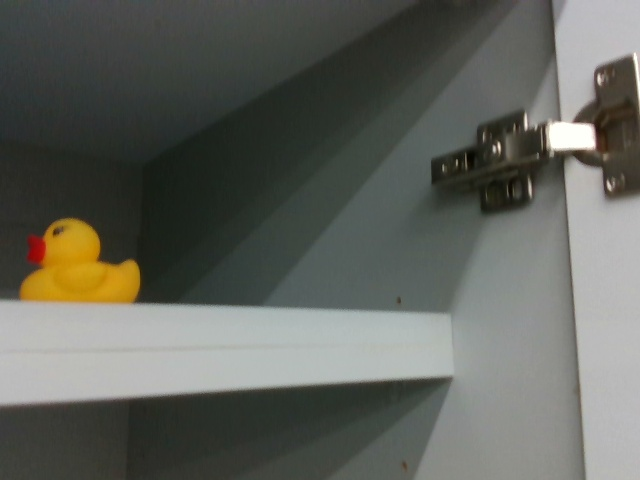duck: (15, 214, 148, 308)
